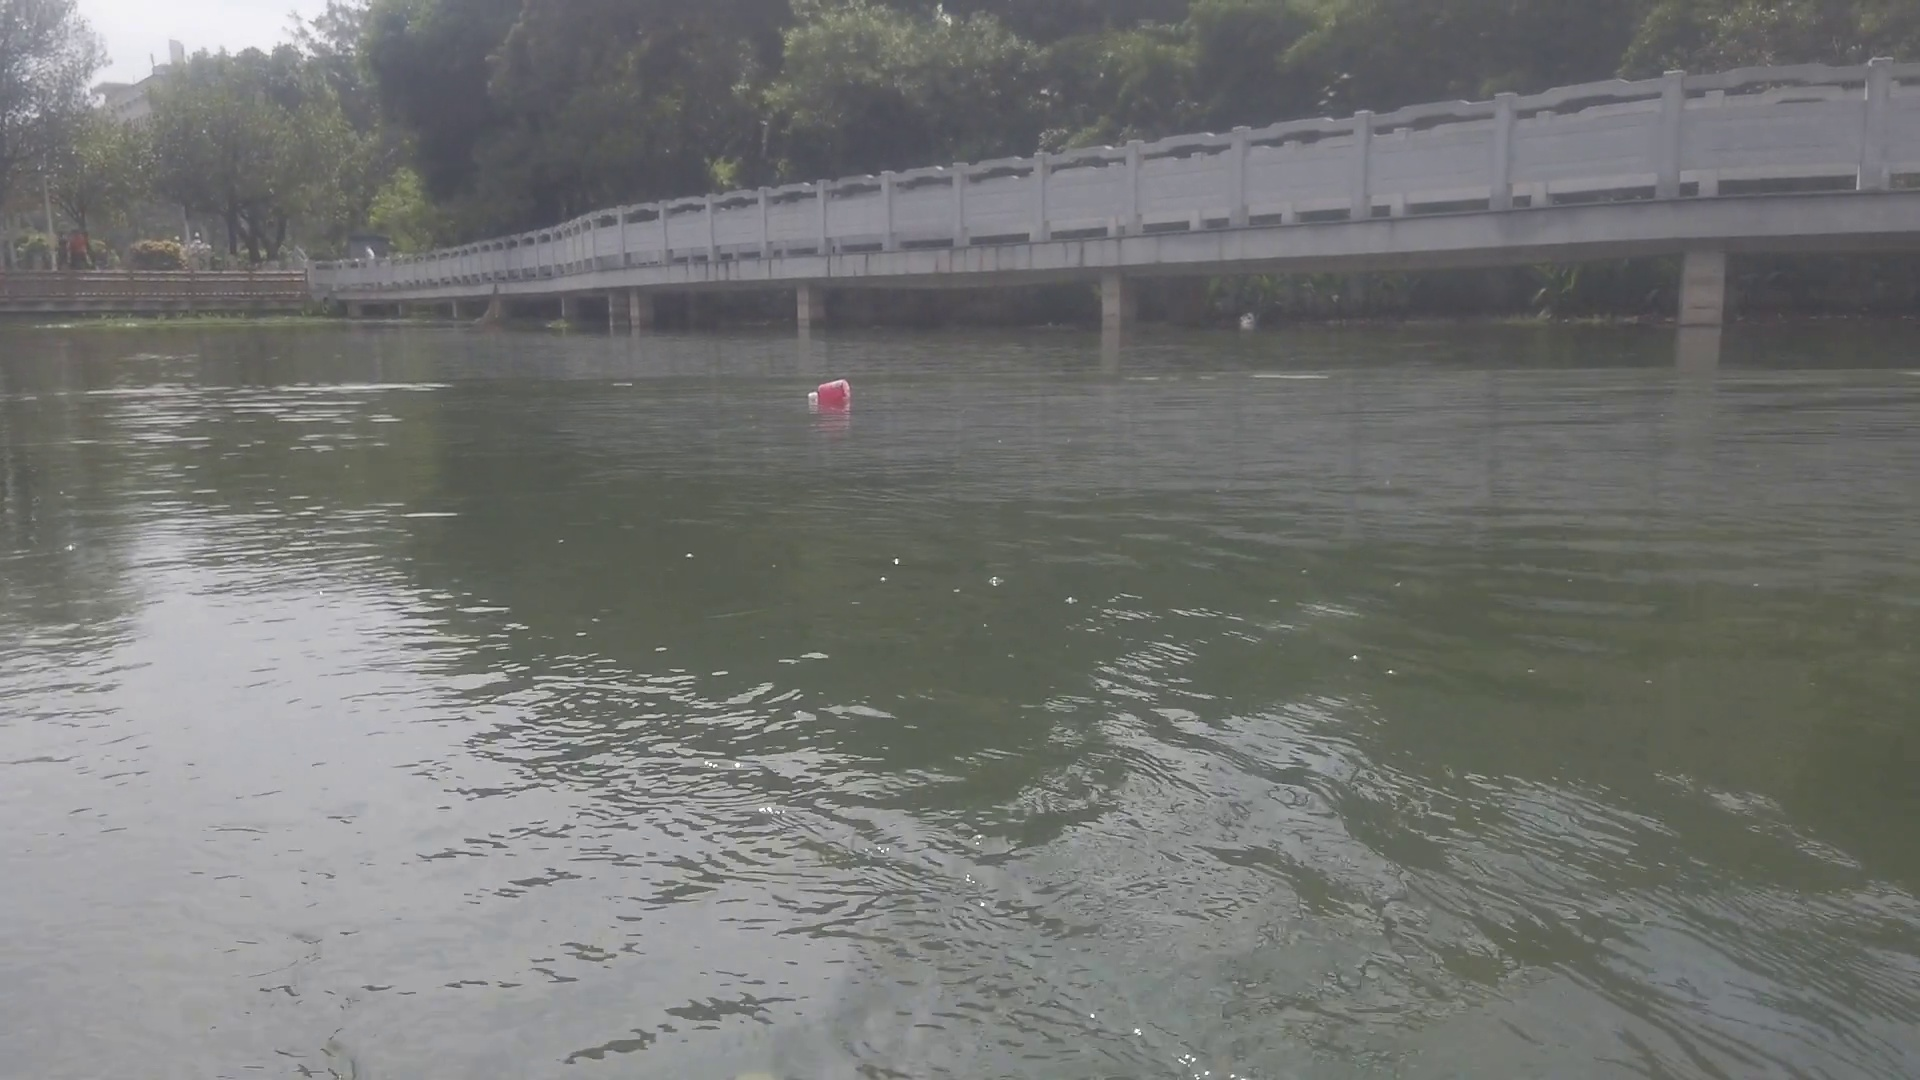bottle: (800, 380, 858, 404)
